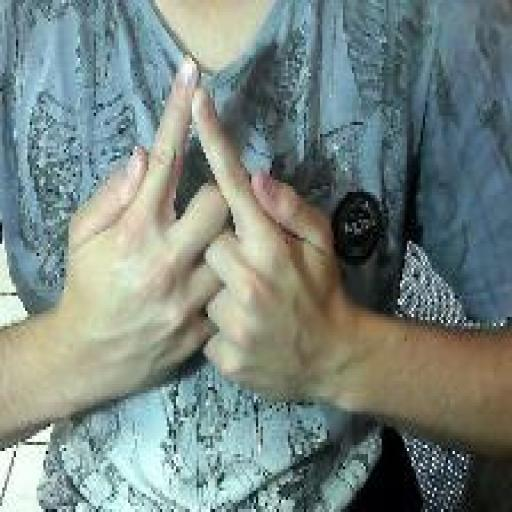Uma -horse-: (63, 49, 346, 405)
